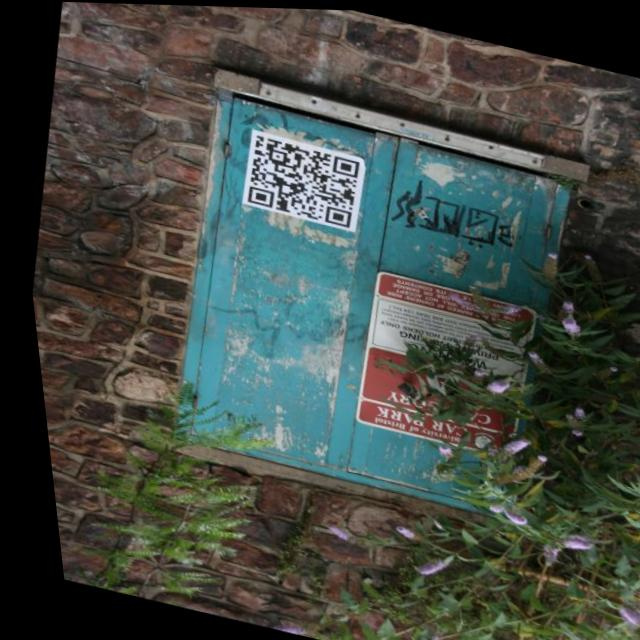qrcode: (237, 133, 361, 227)
